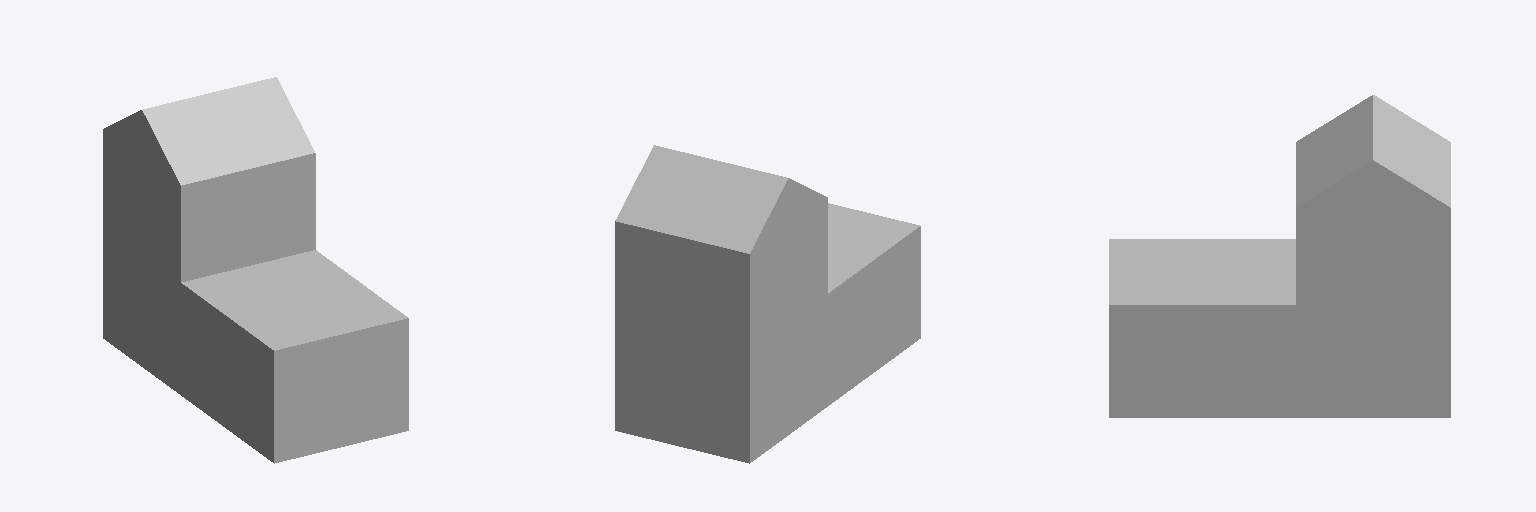
File: city.obj
The picture shows the model from 3 angles: view 1: azimuth 30°, elevation 25°; view 2: azimuth 150°, elevation 25°; view 3: azimuth 270°, elevation 25°; orthographic projection.
Visible parts, largest first — view 1: City_Cube.004; view 2: City_Cube.004; view 3: City_Cube.004.
Boxes of the visible parts, box(x1,y1,x2,y2) form: City_Cube.004: box(103, 77, 408, 463); City_Cube.004: box(615, 145, 920, 463); City_Cube.004: box(1109, 95, 1450, 417).
Size of the model in its own units: 0.5 by 0.9128 by 1.1.